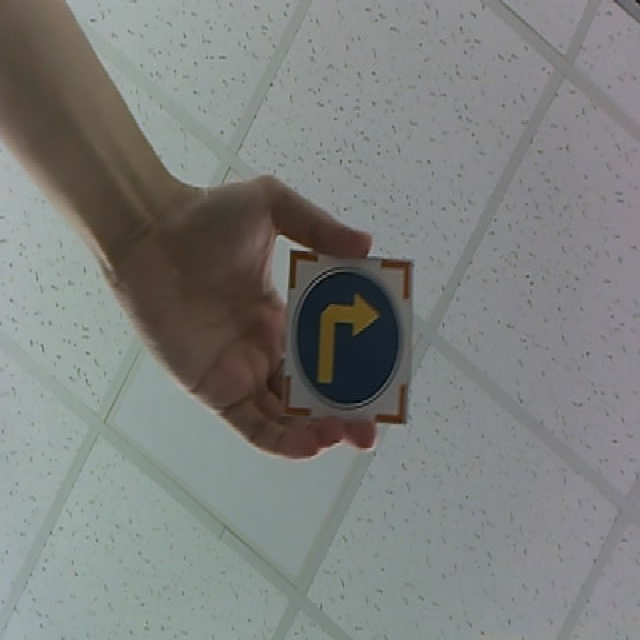right: (275, 248, 414, 427)
